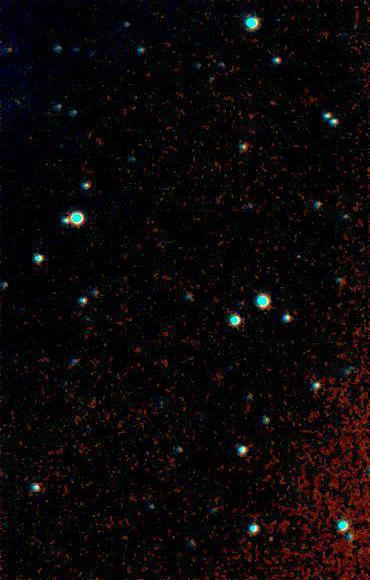star: (260, 88, 290, 118)
